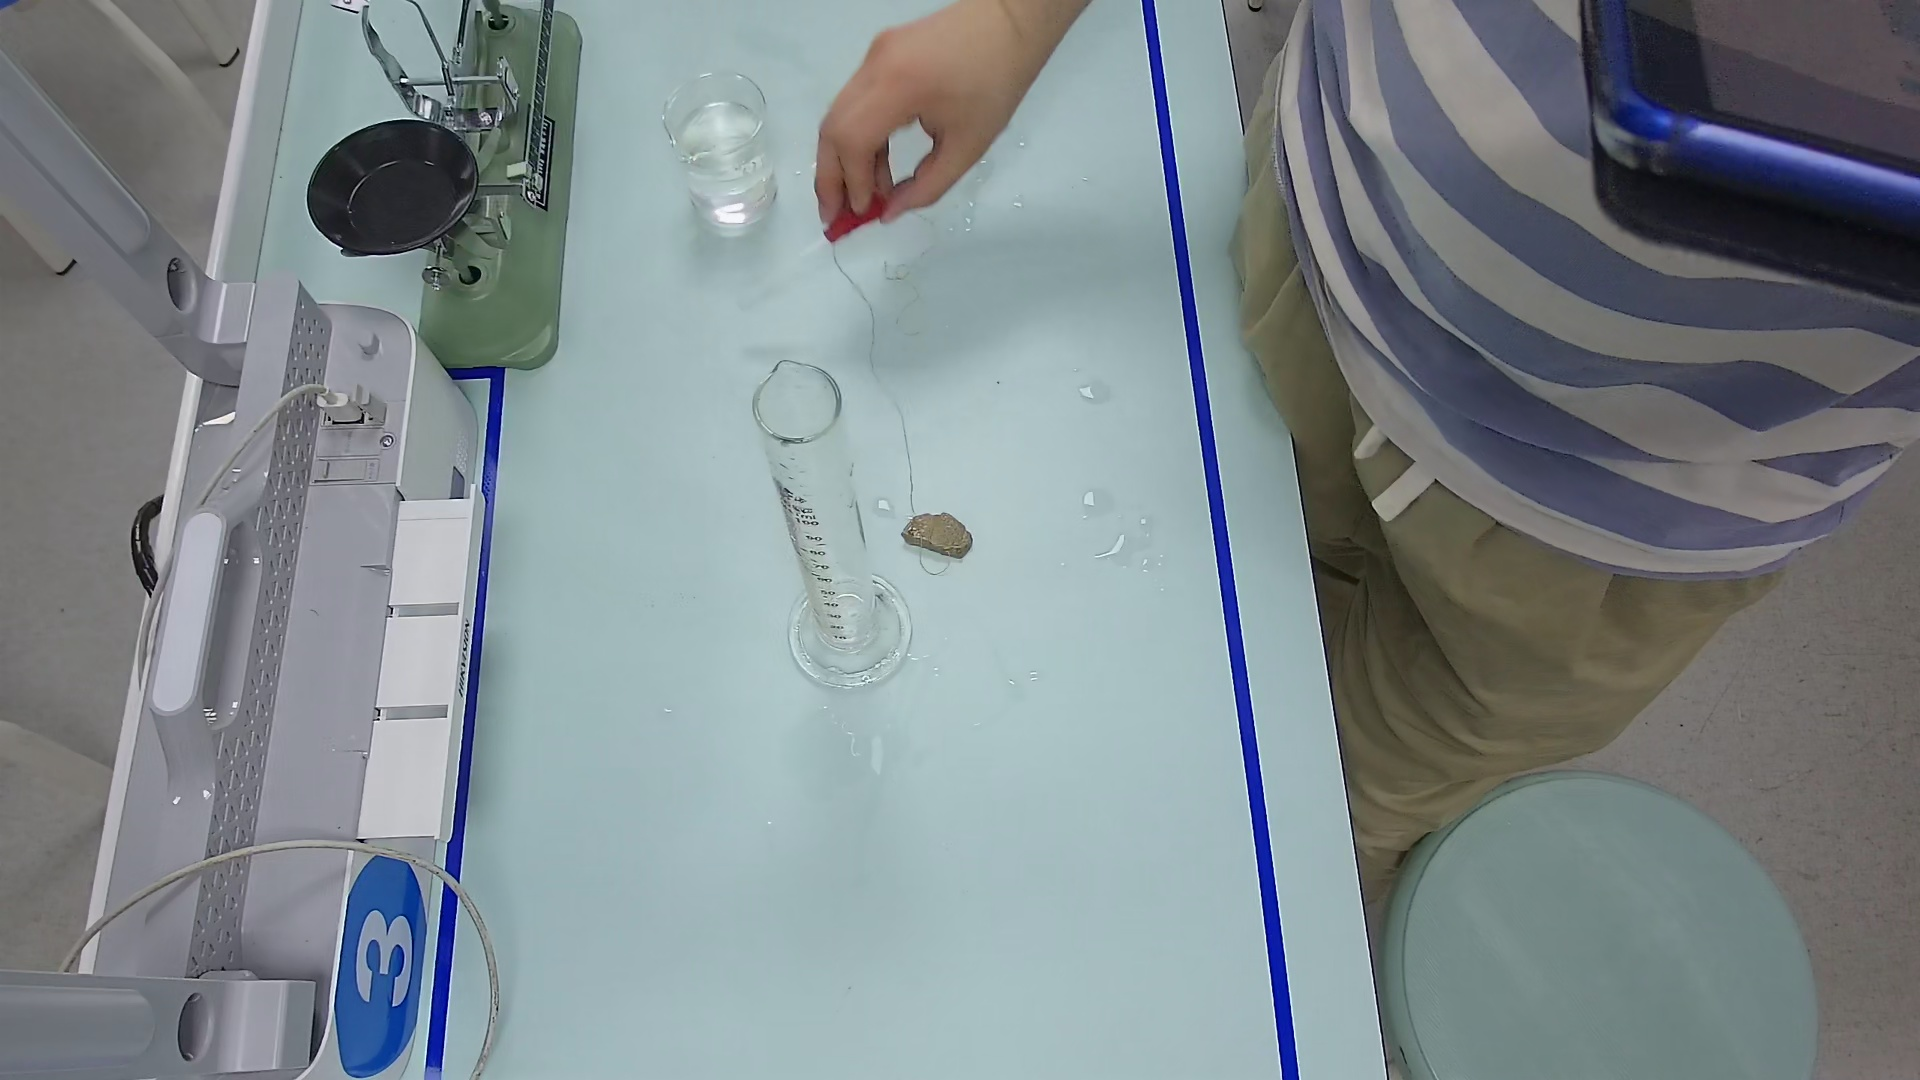bei: (661, 69, 771, 247)
diguan: (741, 198, 876, 295)
diguantou: (822, 186, 885, 252)
hand: (806, 32, 1005, 223)
liangdi: (793, 575, 910, 684)
liangtong: (752, 344, 913, 683)
shi: (897, 516, 975, 551)
tuo: (307, 113, 473, 249)
